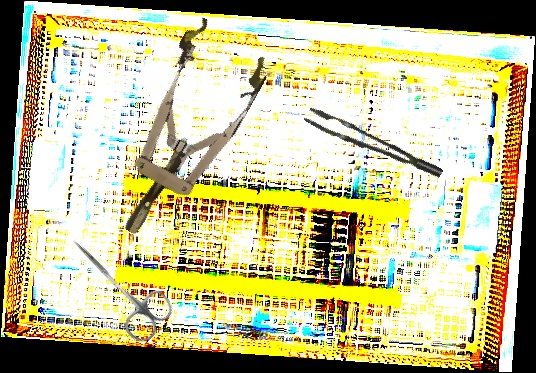Iris Scissors: (53, 223, 180, 348)
Speculum: (87, 13, 278, 254)
Tissue Forceps: (303, 94, 444, 196)
